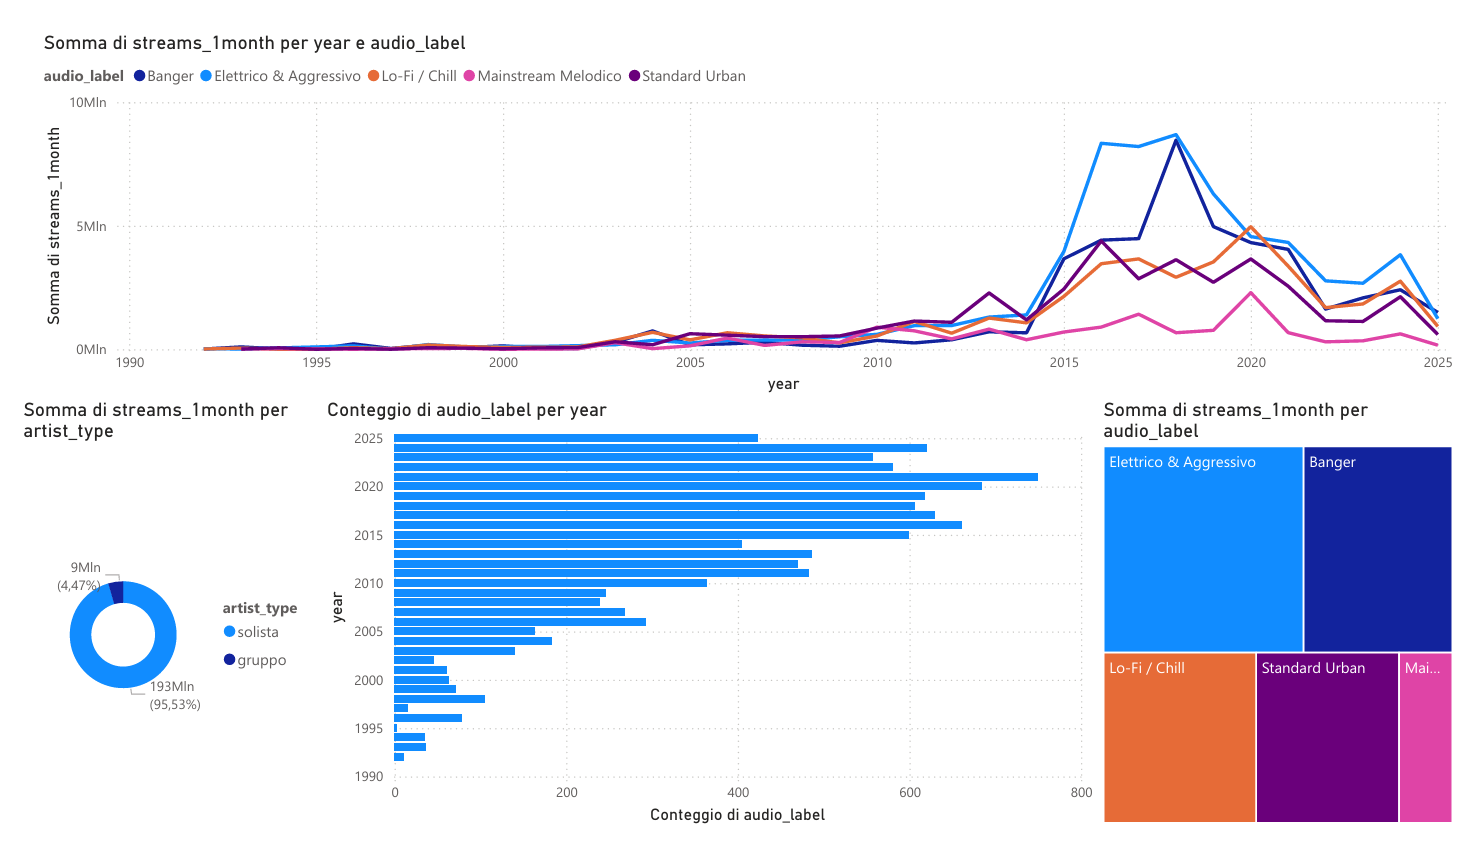

The dashboard page shown, as its layout file describes it:
{"tool":"powerbi","page":{"name":"A22","canvas":[1280,720],"ordinal":2},"visuals":[{"type":"lineChart","fields":{"Category":["Group_ID_6 DateDim.year","Group_ID_6 DateDim.season","Group_ID_6 DateDim.month"],"Y":["Sum(Group_ID_6 FactSong.streams_1month)"],"Series":["Group_ID_6 SymphonyDim.audio_label"]},"box":[18.3,11.3,1261.7,325.3],"z":0},{"type":"donutChart","fields":{"Category":["Group_ID_6 ArtistDim.artist_type"],"Y":["Sum(Group_ID_6 FactSong.streams_1month)"]},"box":[0,336.5,270.4,383],"z":1000},{"type":"treemap","fields":{"Group":["Group_ID_6 SymphonyDim.audio_label"],"Values":["Sum(Group_ID_6 FactSong.streams_1month)"]},"box":[960.4,336.5,319.6,383],"z":2000},{"type":"barChart","fields":{"Category":["Group_ID_6 DateDim.year"],"Y":["CountNonNull(Group_ID_6 SymphonyDim.audio_label)"]},"box":[270.4,336.5,690,383],"z":3000}]}

Visuals, with their boxes in screenshot pixels (x1, y1, x2, y2), scaled from the page's 1280x720 canvas onto the 1469x841 screenshot:
lineChart - Group_ID_6 DateDim.year x Group_ID_6 DateDim.season: <region>21, 13, 1468, 393</region>
donutChart - Group_ID_6 ArtistDim.artist_type x Sum(Group_ID_6 FactSong.streams_1month): <region>0, 393, 310, 840</region>
treemap - Group_ID_6 SymphonyDim.audio_label x Sum(Group_ID_6 FactSong.streams_1month): <region>1102, 393, 1468, 840</region>
barChart - Group_ID_6 DateDim.year x CountNonNull(Group_ID_6 SymphonyDim.audio_label): <region>310, 393, 1102, 840</region>
